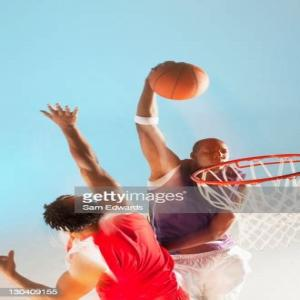Basket: (150, 62, 210, 101)
